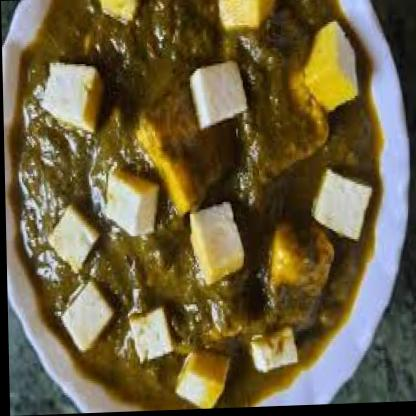palak_paneer: (12, 0, 385, 416)
